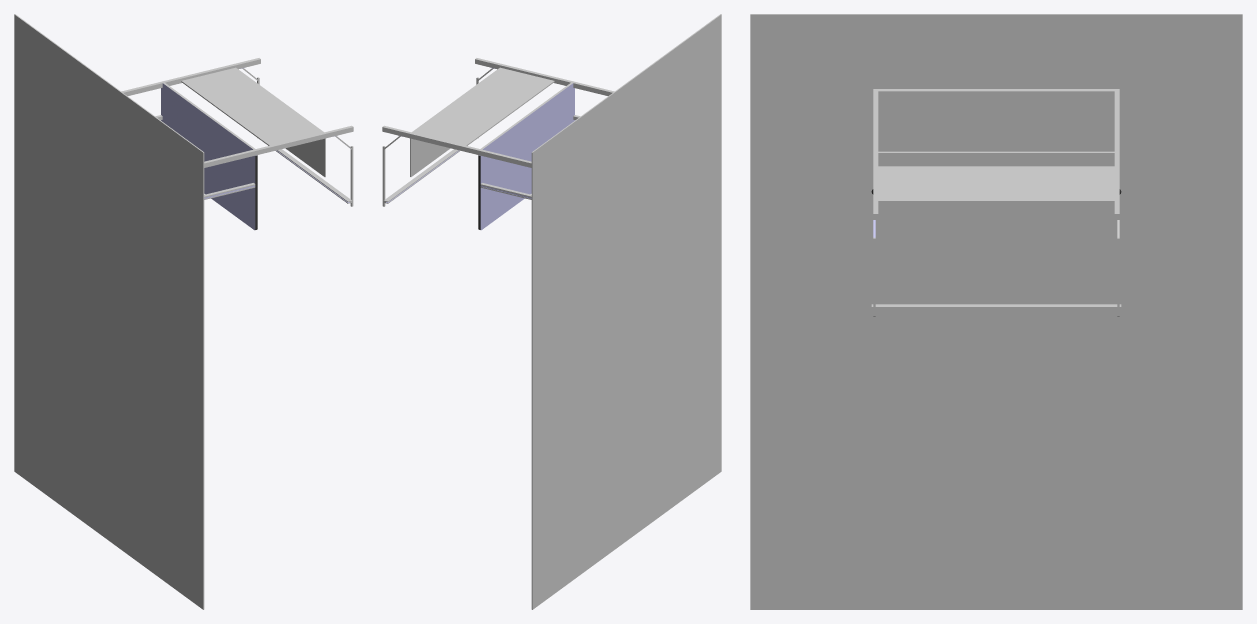
Rendered from Scene_Qualite_GLB.gltf.
The picture shows the model from 3 angles, left to right: view 1: azimuth 30°, elevation 25°; view 2: azimuth 150°, elevation 25°; view 3: azimuth 270°, elevation 25°; orthographic projection. The views are drawn at different scales.
Parts seen in each view (by area): view 1: plan-post004, bureau_Poste5, bureau_Poste006; view 2: plan-post004, bureau_Poste5, bureau_Poste006; view 3: plan-post004, bureau_Poste5, bureau_Poste006.
Boxes of the visible parts, <box> form: plan-post004: <box>14,14,204,609</box>; bureau_Poste5: <box>121,58,353,230</box>; bureau_Poste006: <box>240,67,353,206</box>; plan-post004: <box>531,14,721,609</box>; bureau_Poste5: <box>382,58,614,230</box>; bureau_Poste006: <box>382,67,495,206</box>; plan-post004: <box>750,14,1242,609</box>; bureau_Poste5: <box>871,89,1121,256</box>; bureau_Poste006: <box>871,220,1121,316</box>.
Size of the model in its own units: 1.81 by 4 by 3.
